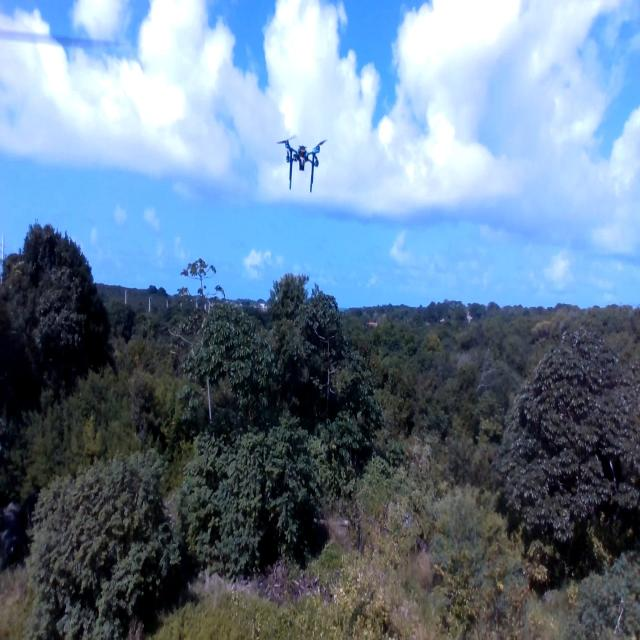-uav-: (270, 117, 332, 209)
